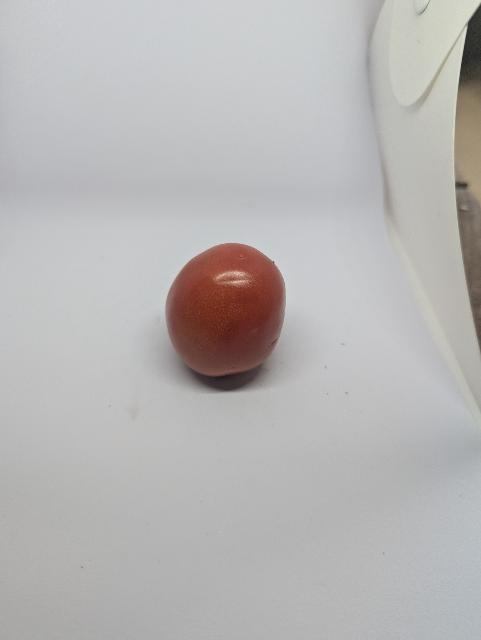red: (160, 235, 306, 394)
